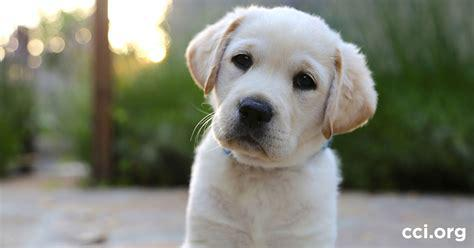dog: (187, 6, 376, 248)
